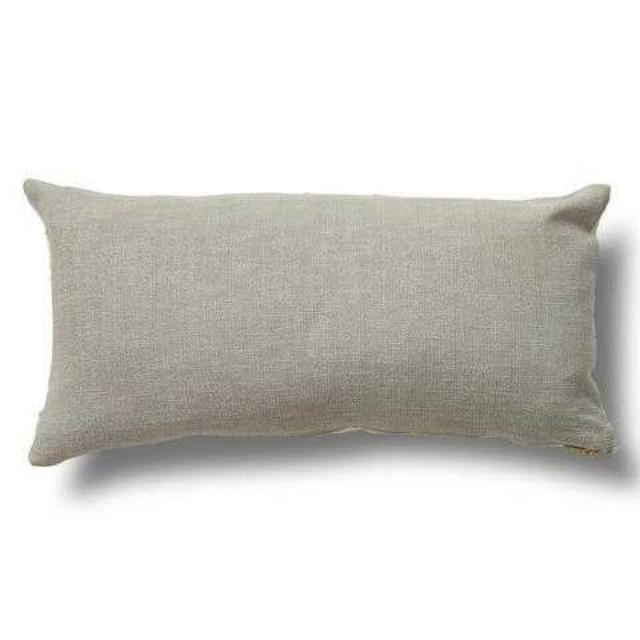pillow: (22, 175, 620, 467)
